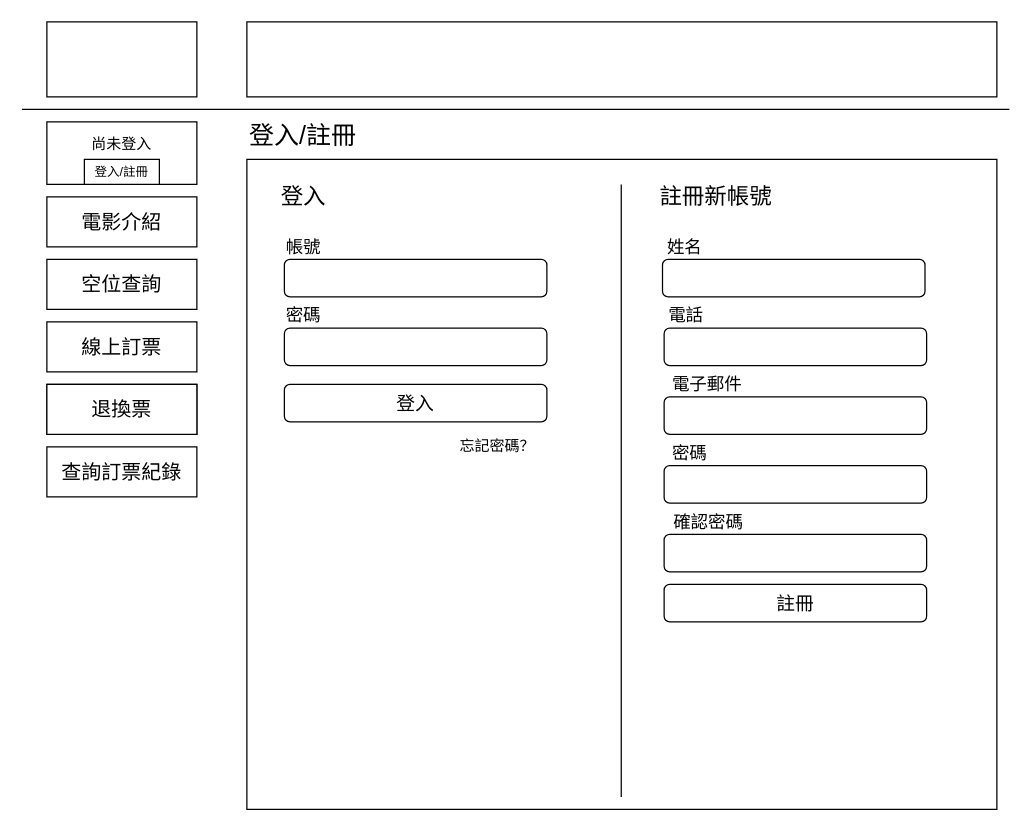
Some shapes in this 1033 by 831 pixel diagram are drawn without their labels. The centre of each missing label's shape, as x and y in pixels:
"影城名稱" goes at pixel 621 59.
"電影院 訂票系統" goes at pixel 121 59.
